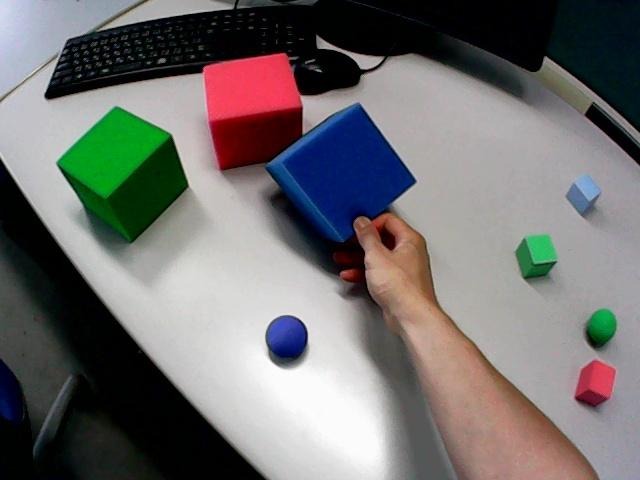blue_block: (266, 104, 415, 241), (566, 174, 600, 214), (0, 160, 8, 223), (0, 159, 8, 188), (0, 160, 7, 185)
red_block: (203, 54, 301, 169), (575, 360, 615, 405)
